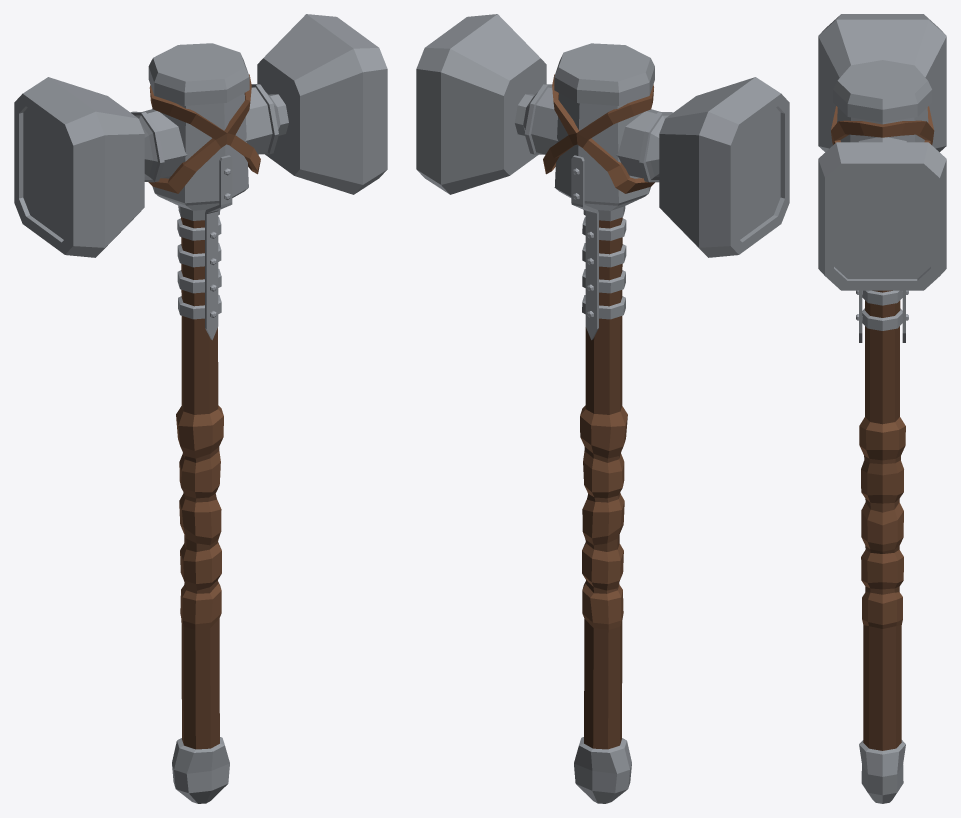
File: Hammer_Double.glb
3 views of the same model, side by side, from view 1: azimuth 30°, elevation 25°; view 2: azimuth 150°, elevation 25°; view 3: azimuth 270°, elevation 25° (orthographic). The views are drawn at different scales.
Visible parts, largest first — view 1: Hammer_Double; view 2: Hammer_Double; view 3: Hammer_Double.
Part boxes in pixels (x1=…): Hammer_Double: x1=14, y1=14, x2=387, y2=803; Hammer_Double: x1=416, y1=14, x2=789, y2=803; Hammer_Double: x1=818, y1=14, x2=946, y2=803.
Bounding box in the file's own units: 2.22 × 4.97 × 0.8057.
